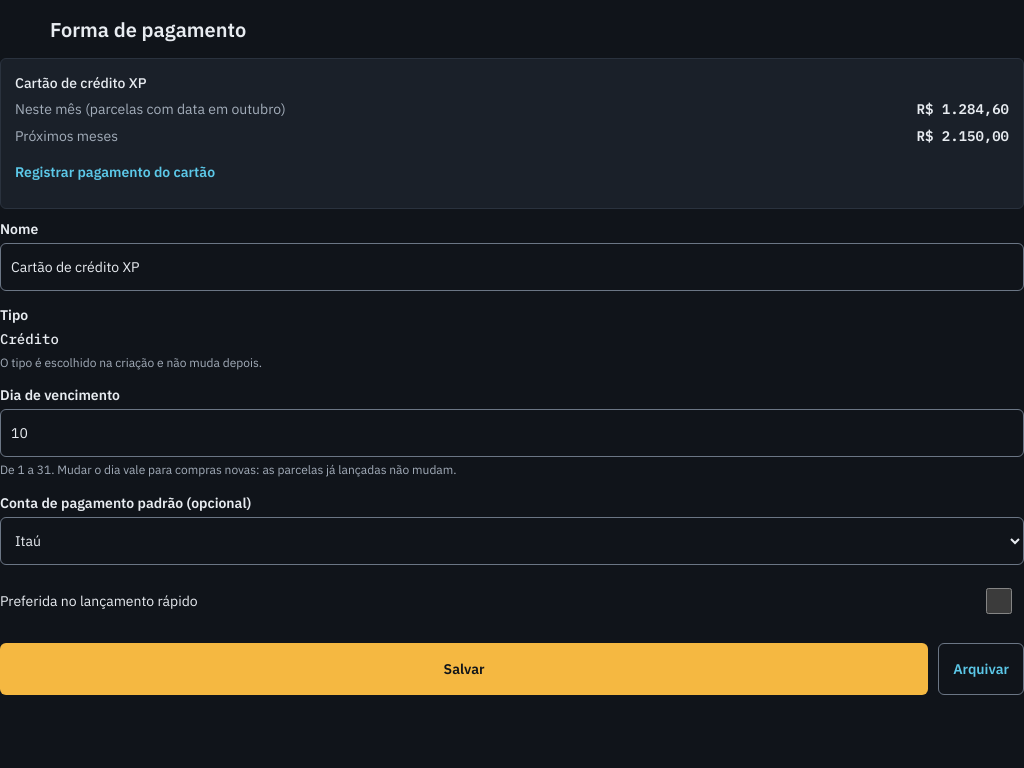
Test: T21 abertura e fechamento › Esc fecha, tira o parâmetro e devolve o foco ao link de origem
Click the link "Registrar pagamento do cartão" at (115, 172), box [15,163,215,181]
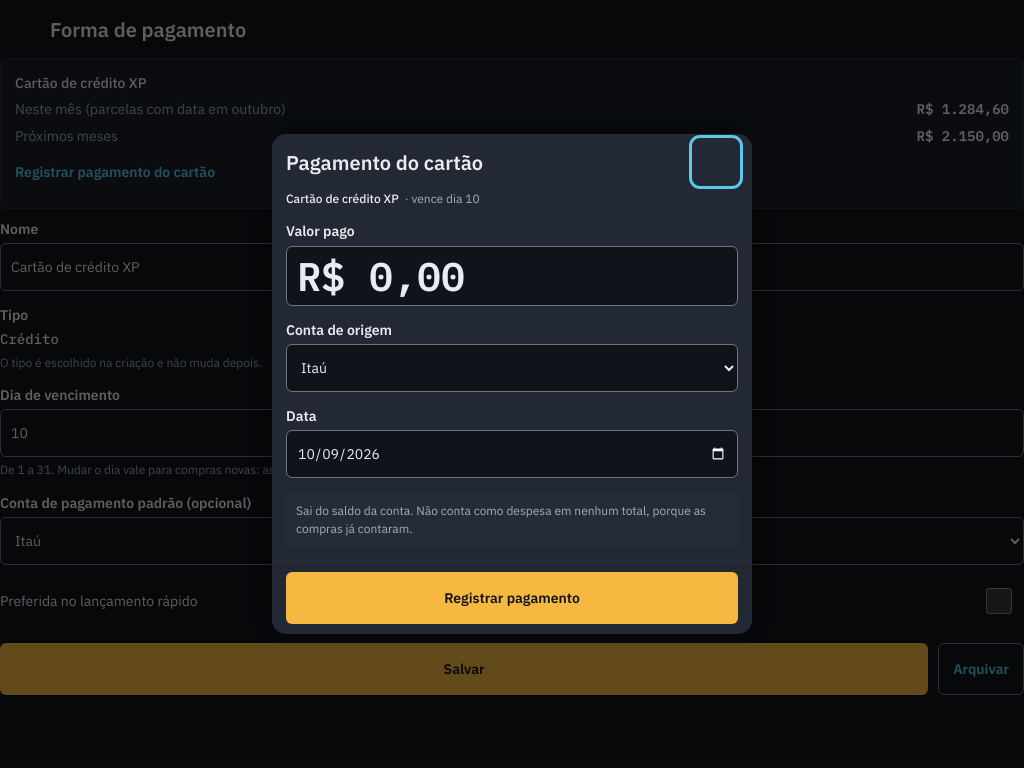
Expected: the dialog "Pagamento do cartão" is shown, [272,134,752,634]
Press Escape
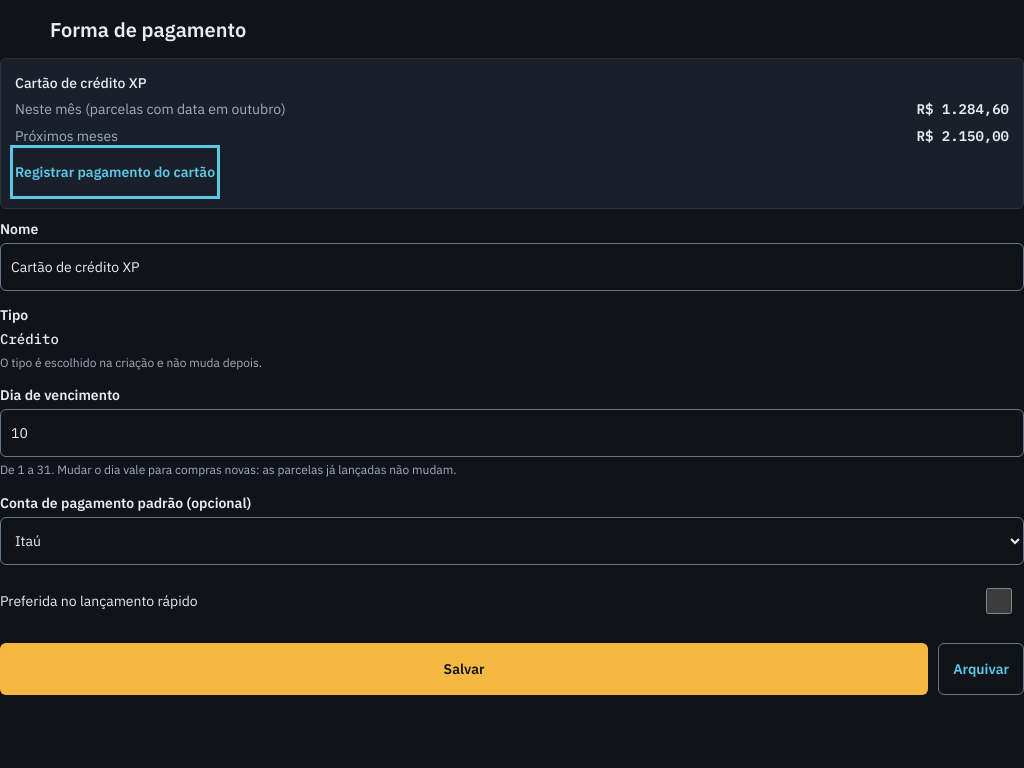
Expected: the dialog is gone
